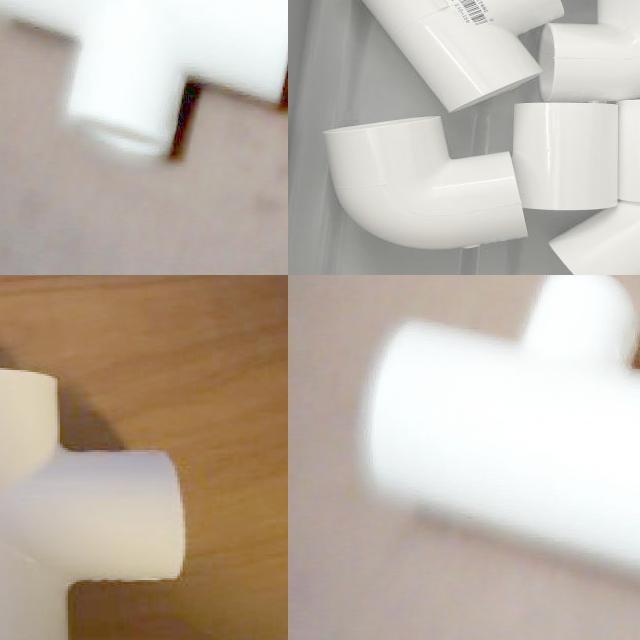L Joint: (322, 117, 527, 249)
T Joint: (355, 275, 640, 590), (0, 370, 187, 640), (356, 0, 565, 114)
